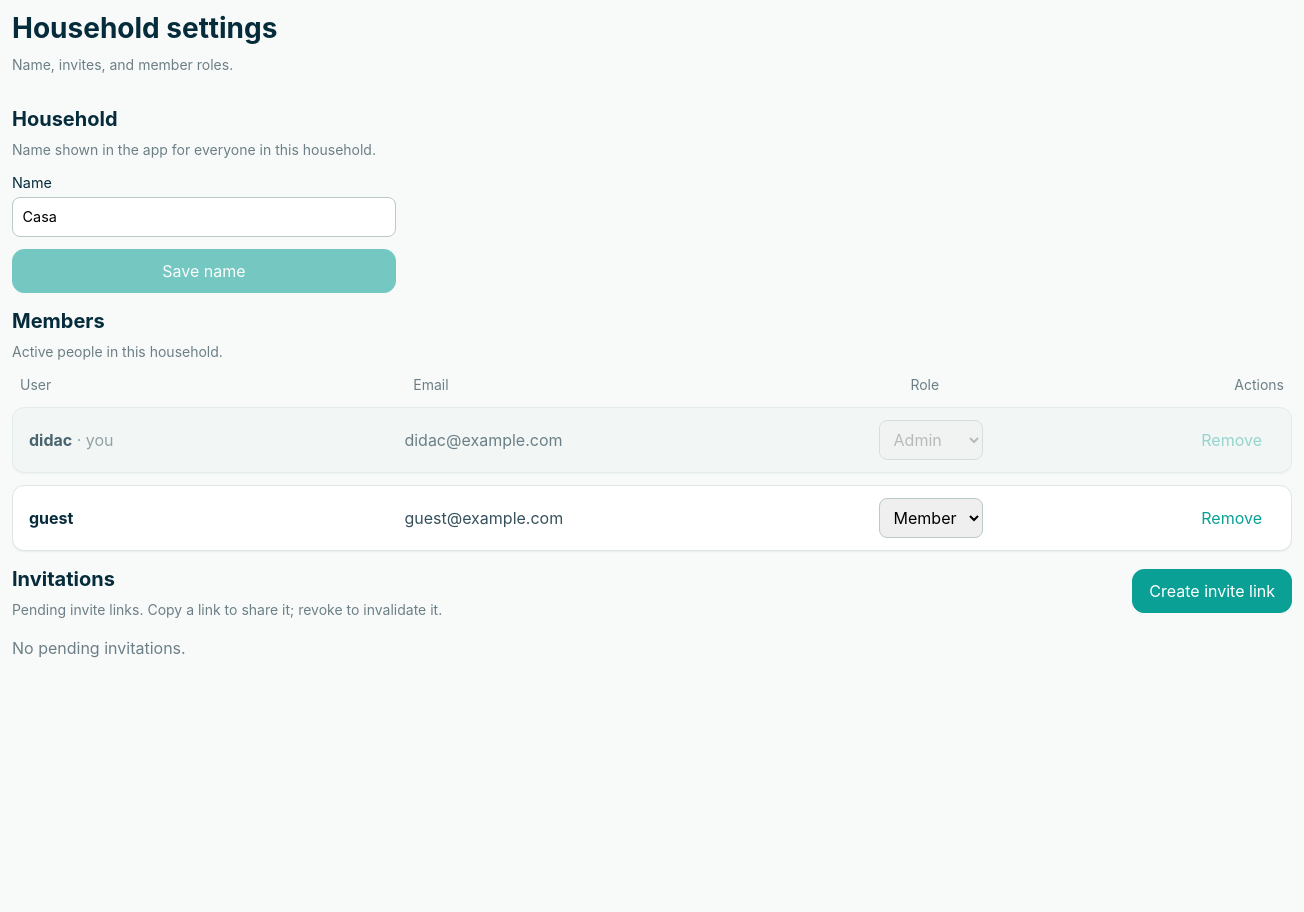
it: HouseholdMembersPage › loads household members and shows a created invite link
Check: the field showing "Casa" is shown, box [12, 197, 396, 237]
Check: the text "guest" is shown, box [29, 508, 73, 528]
Click the button "Create invite link" at (1212, 591), box [1132, 569, 1292, 613]
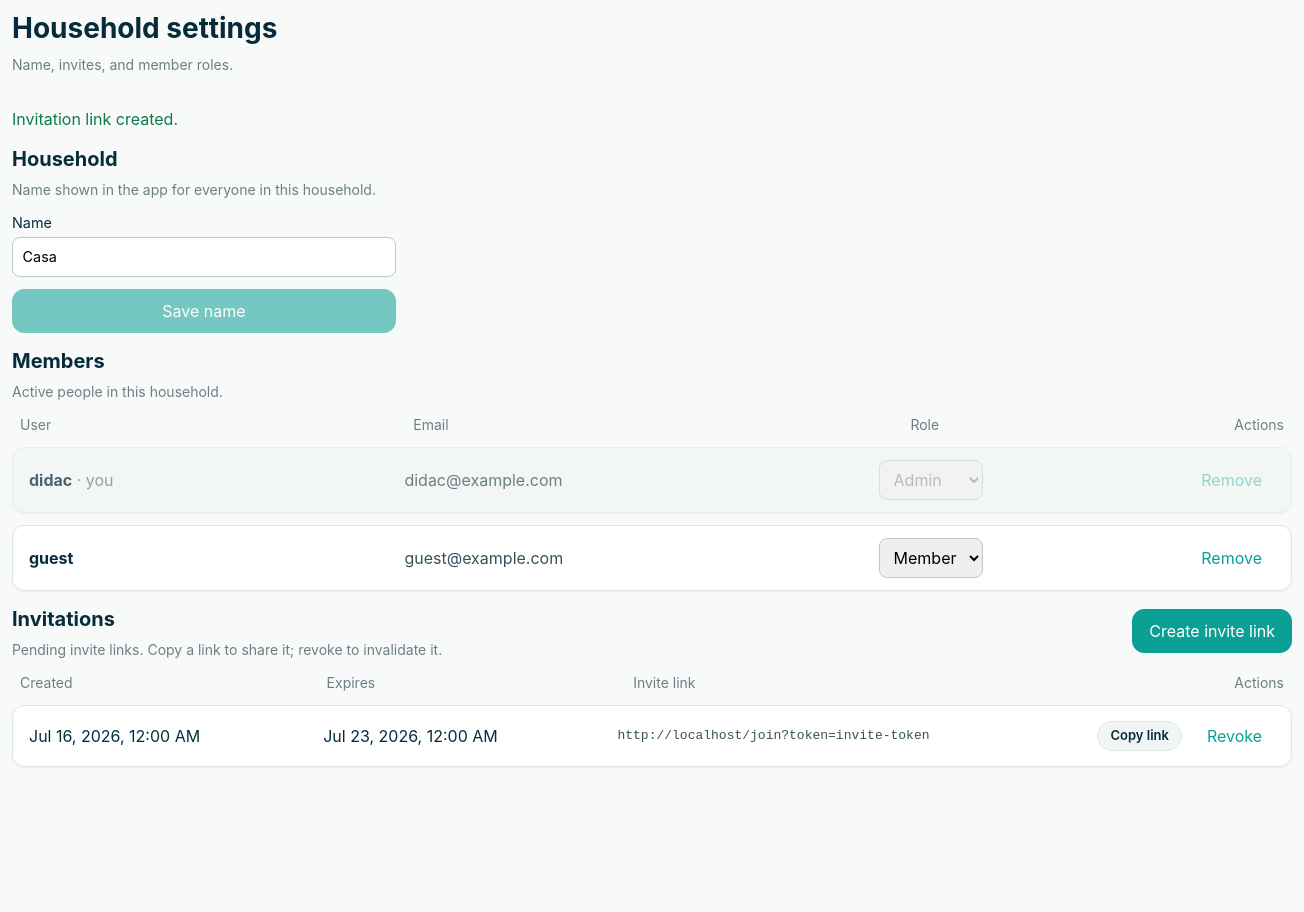
Check: the text "http://localhost/join?token=invite-token" is shown, box [617, 728, 930, 743]
Check: the text "Invitation link created." is shown, box [12, 109, 178, 129]
